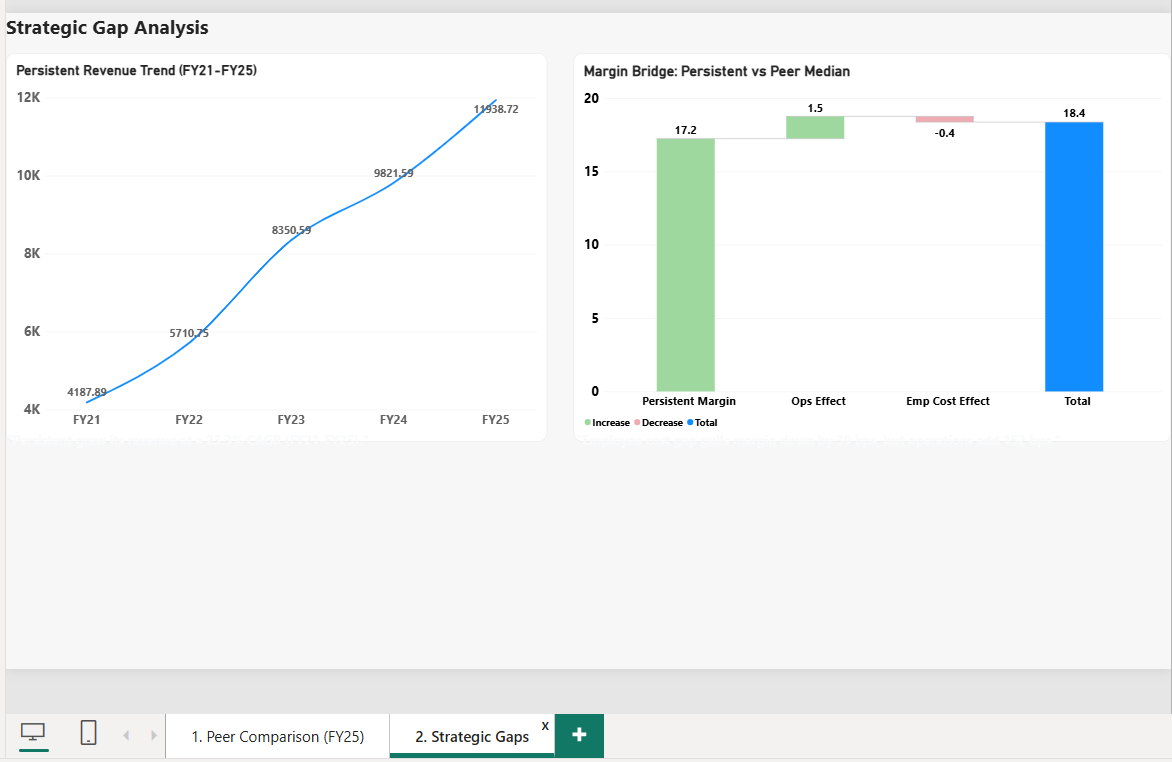

This screenshot's page, from the dashboard's own definition file:
{"tool":"powerbi","page":{"name":"2. Strategic Gaps","canvas":[1920,1080],"ordinal":1},"visuals":[{"type":"lineChart","title":"Persistent Revenue Trend (FY21-FY25)","fields":{"Category":["peer_financials.fiscal_year"],"Y":["Sum(peer_financials.revenue)"]},"box":[0,65.9,891.3,640.1],"z":0},{"type":"waterfallChart","title":"Margin Bridge: Persistent vs Peer Median","fields":{"Category":["MarginBridgeData.Category"],"Y":["Sum(MarginBridgeData.Value)"]},"box":[934.5,65.9,985.9,640.1],"z":1},{"type":"textbox","box":[0,687,891,393],"z":2},{"type":"textbox","box":[934.5,687.5,985.9,35],"z":3},{"type":"textbox","box":[0,0,475.5,146.1],"z":5}]}

Visuals, with their boxes on the page's 1920x1080 design canvas (x1, y1, x2, y2). These are canvas units, not pixel positions in the 1172x762 screenshot, which may show the page scaled, cropped or inside an application window:
"Persistent Revenue Trend (FY21-FY25)" lineChart: <box>0,66,891,706</box>
"Margin Bridge: Persistent vs Peer Median" waterfallChart: <box>934,66,1920,706</box>
textbox: <box>0,687,891,1080</box>
textbox: <box>934,688,1920,722</box>
textbox: <box>0,0,476,146</box>
